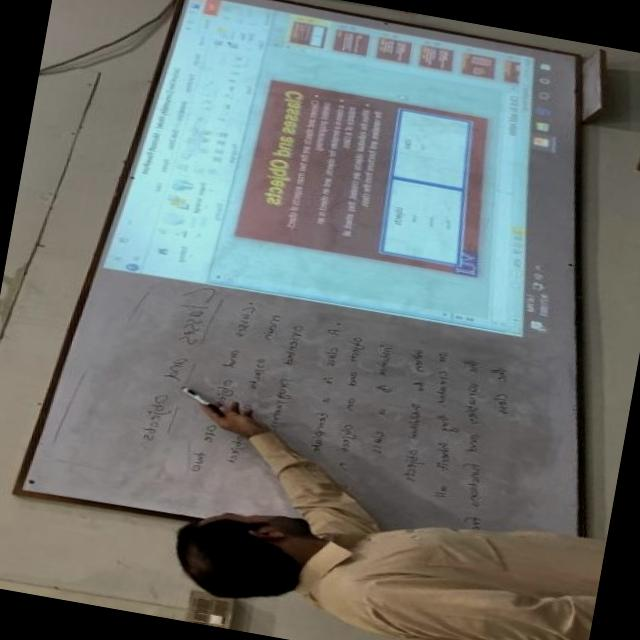Instructor: (122, 444, 608, 640)
Slide: (103, 0, 568, 343)
White-board: (15, 0, 579, 585)
